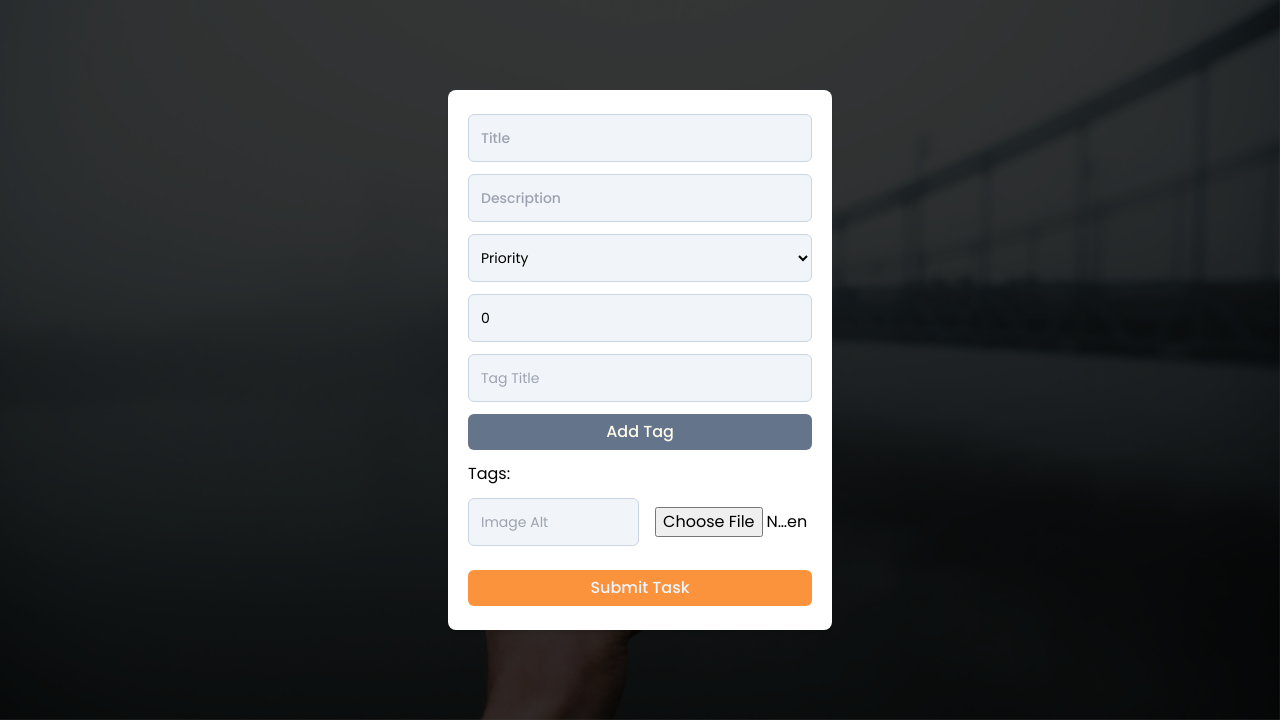
it: AddModal Component › Tag Management › should support adding multiple tags
Step 1. Type "Important" into the field with test id "tag-input" → point(640, 378), box [468, 354, 812, 402]
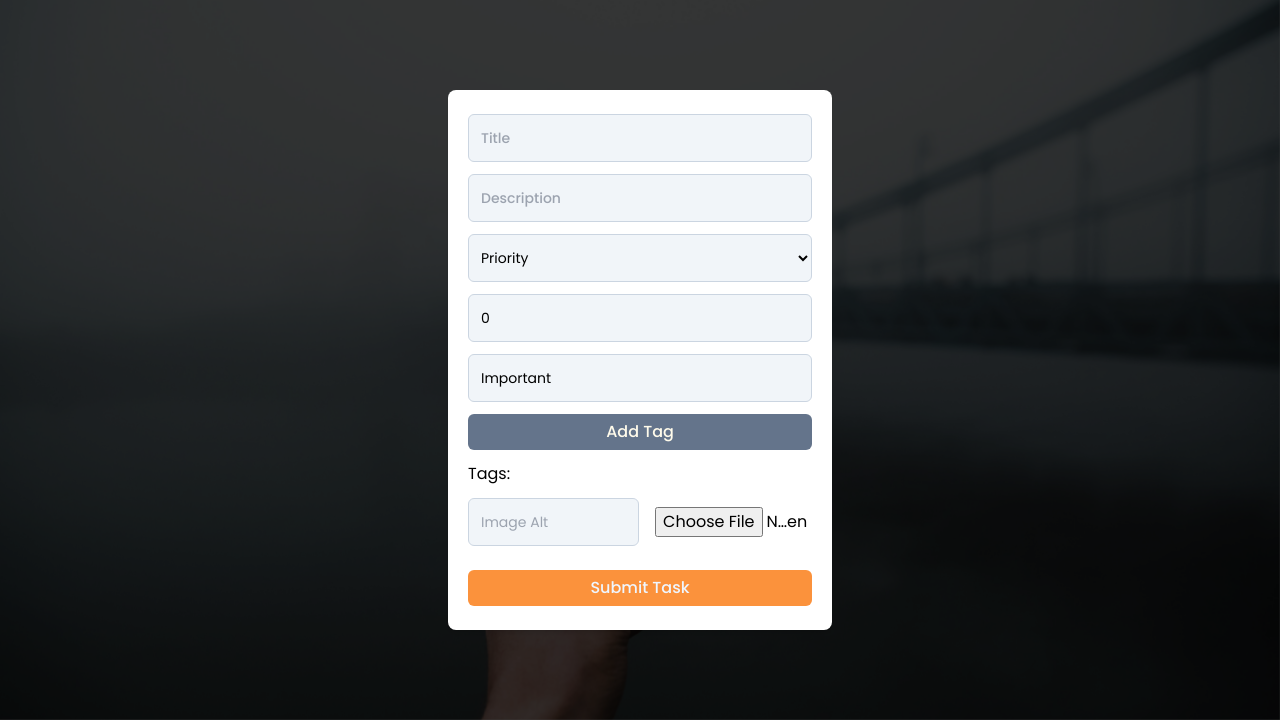
Step 2. Click the button with test id "add-tag-button" → point(640, 432), box [468, 414, 812, 450]
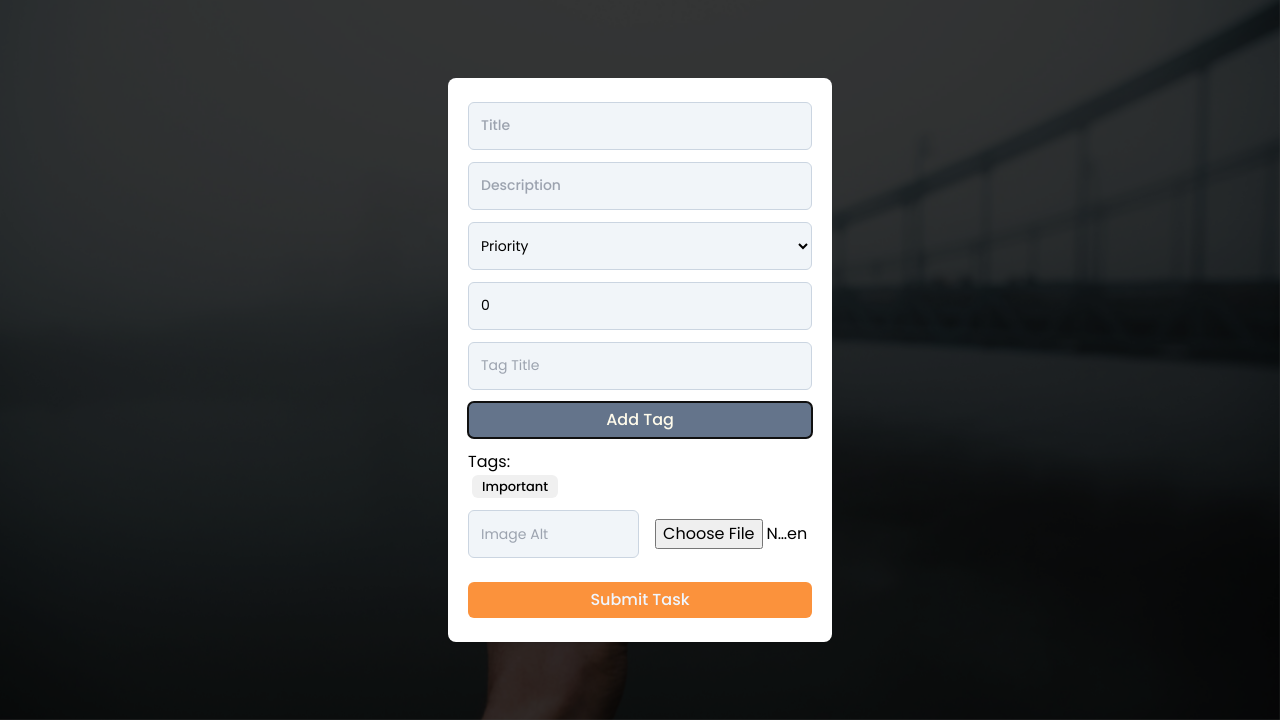
Step 3. Type "Urgent" into the field with test id "tag-input" → point(640, 366), box [468, 342, 812, 390]
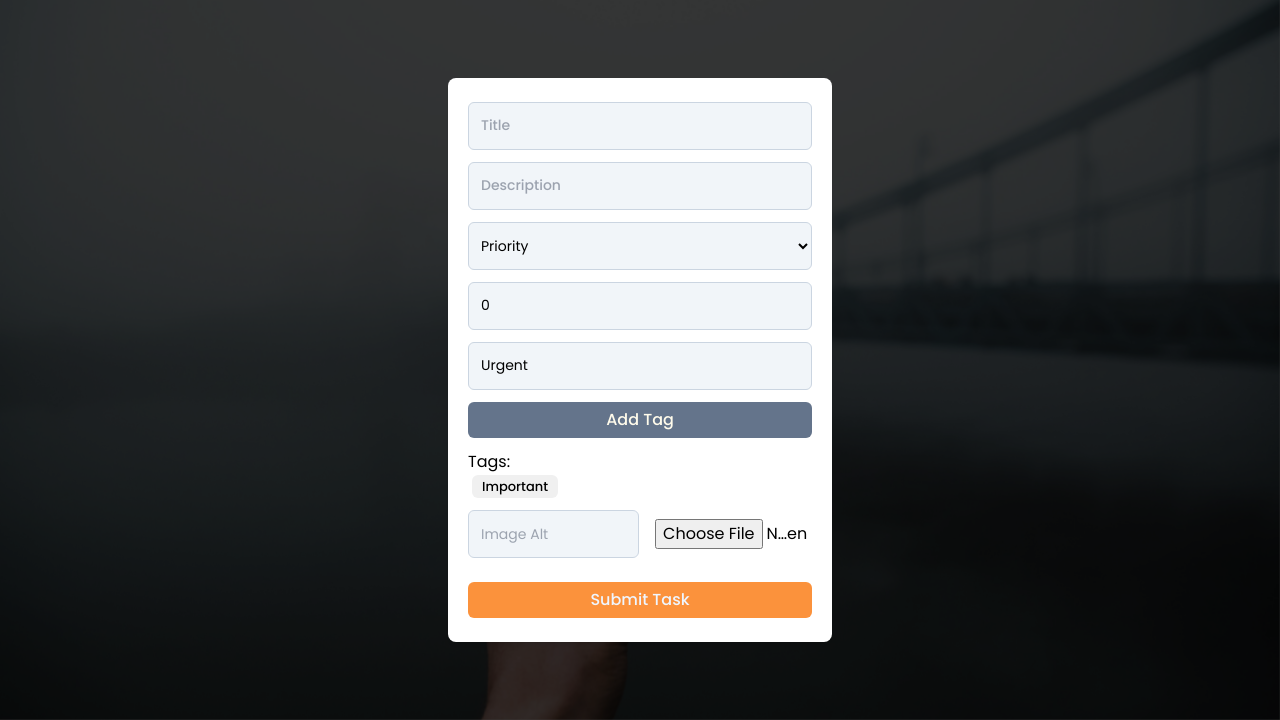
Step 4. Click the button with test id "add-tag-button" → point(640, 420), box [468, 402, 812, 438]
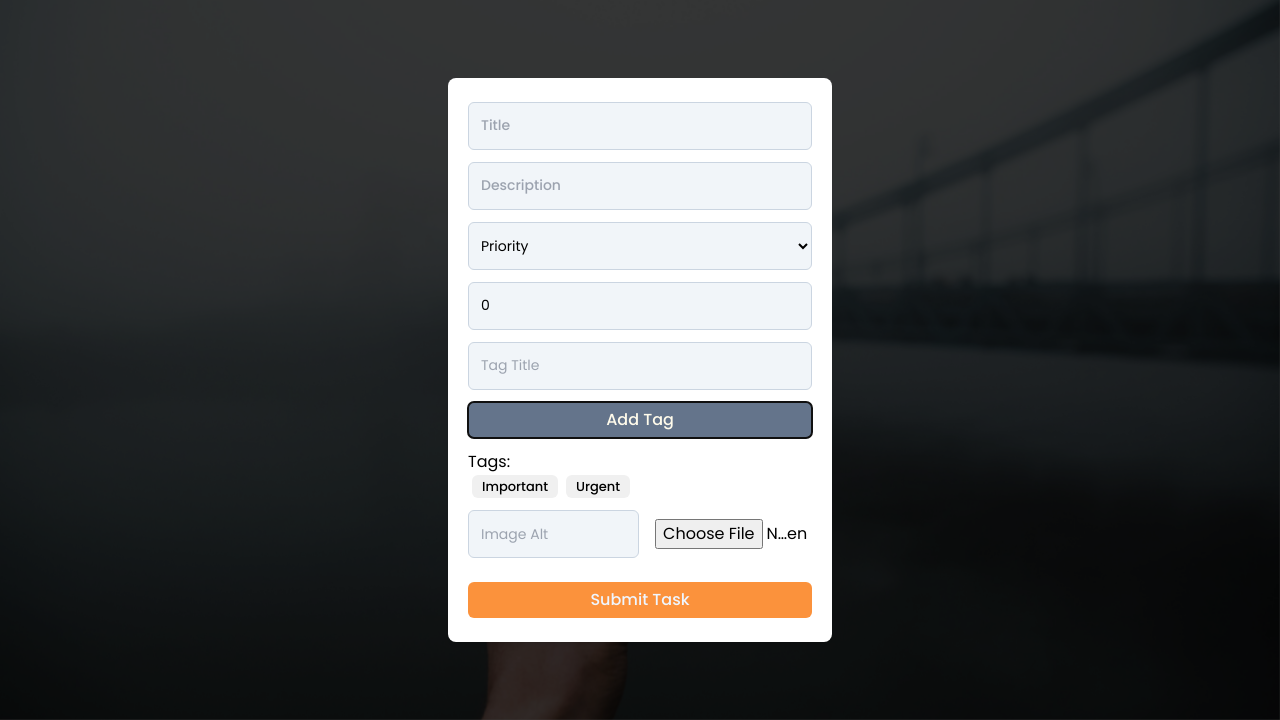
Check: the text "Important" is shown, box [472, 475, 558, 498]
Check: the text "Urgent" is shown, box [566, 475, 630, 498]
